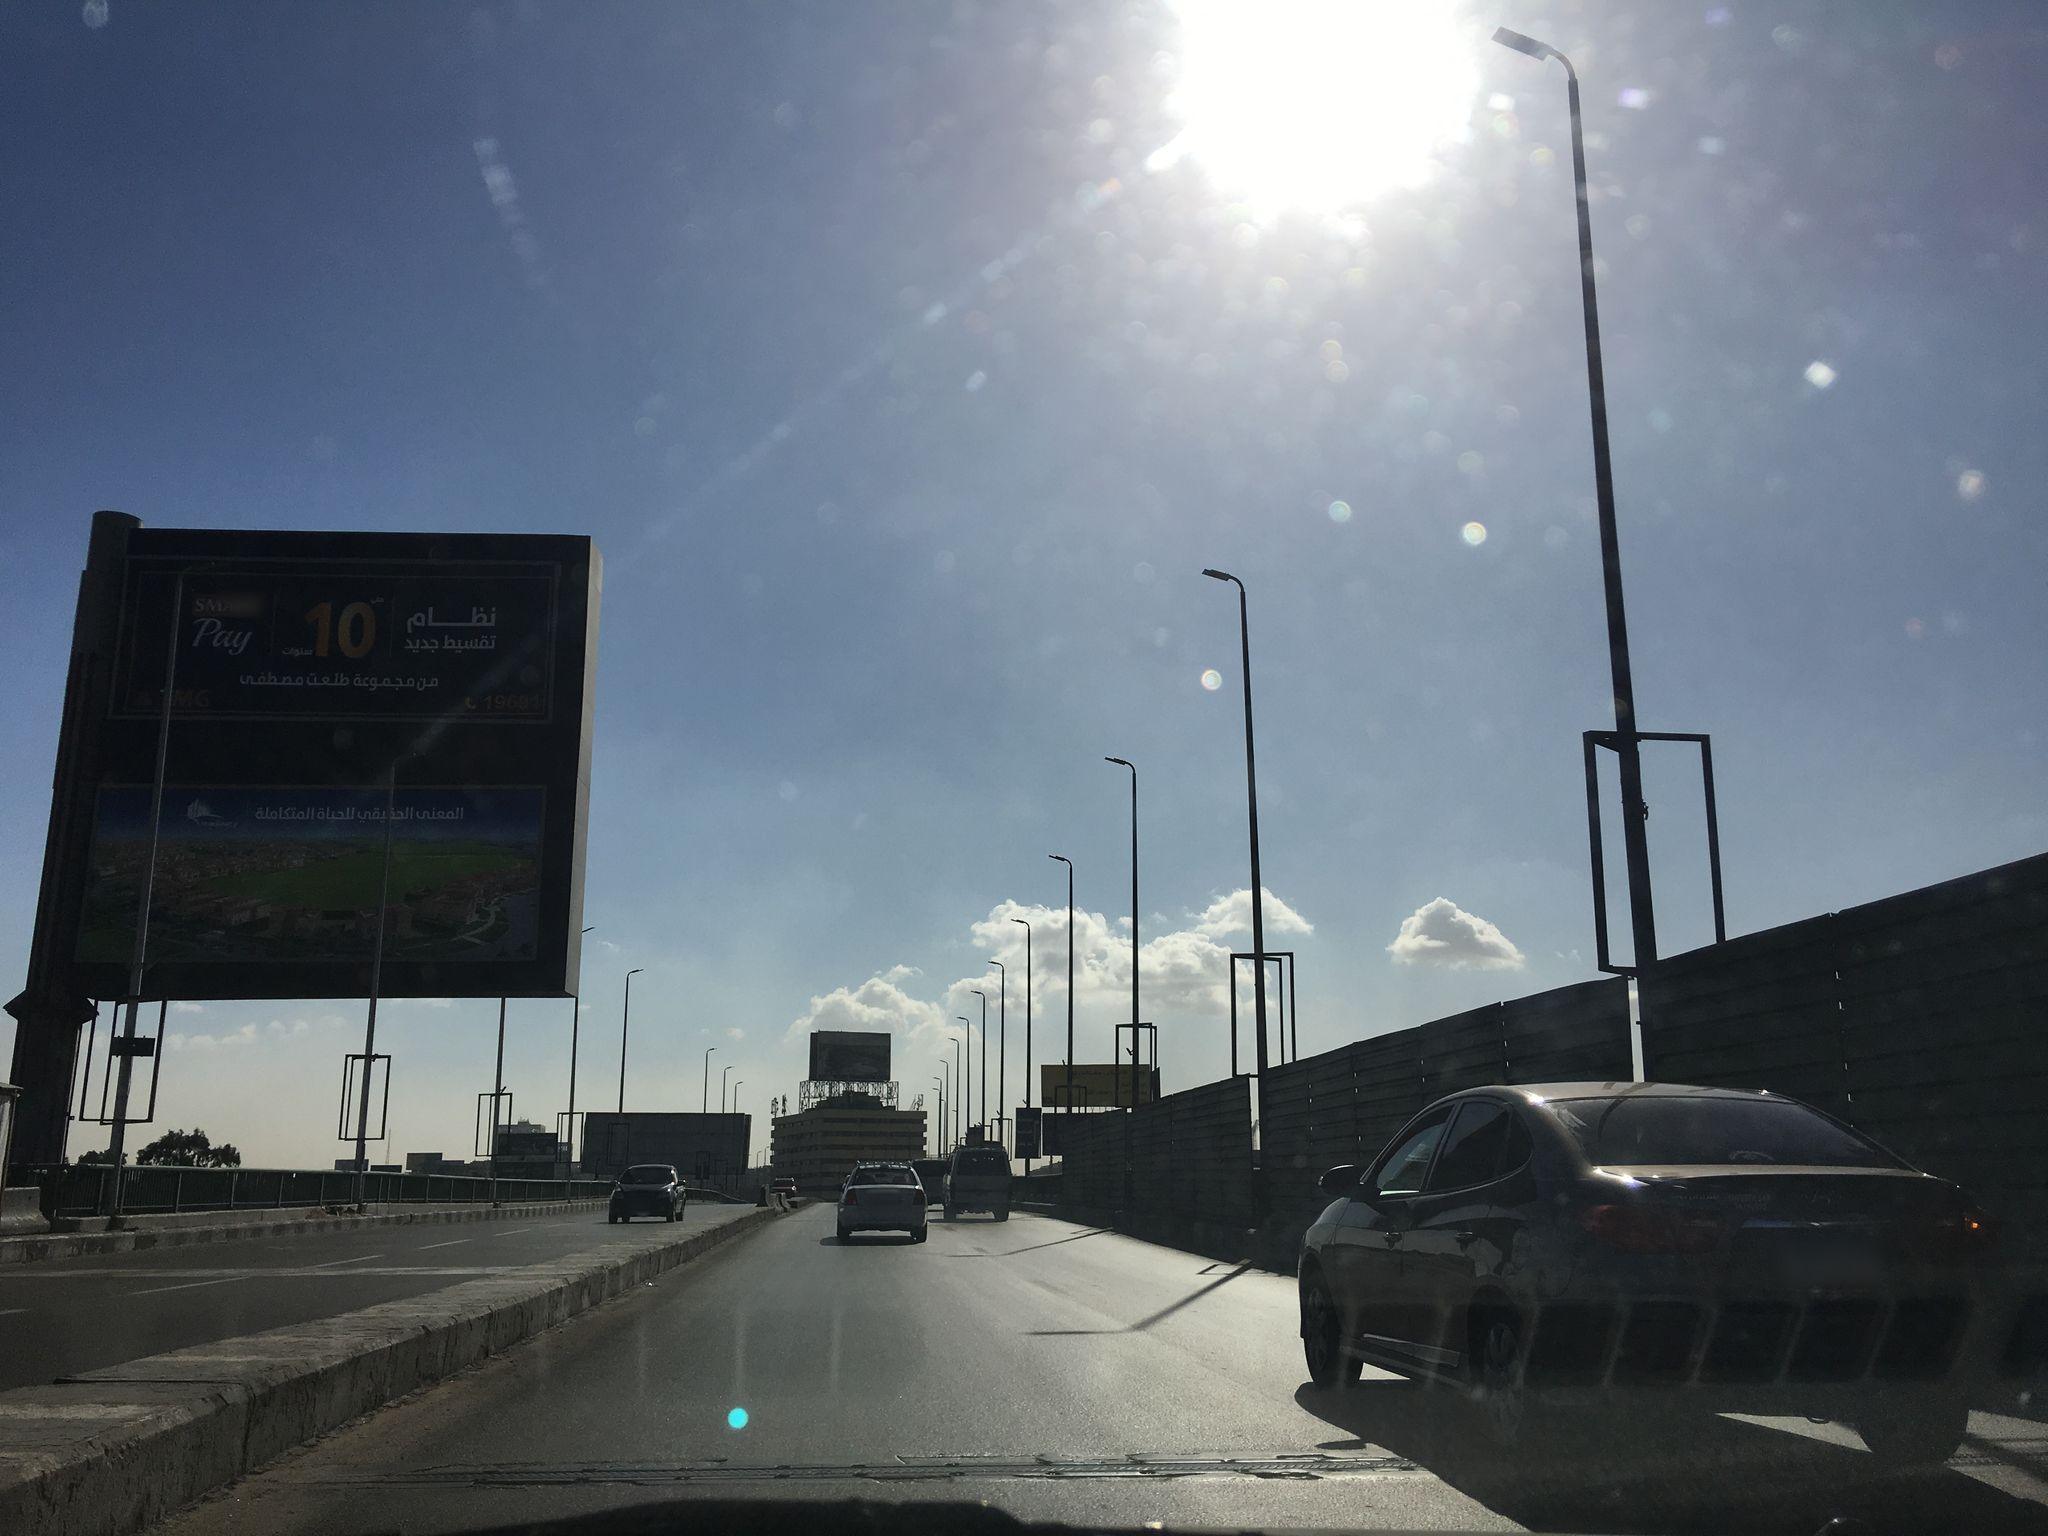car: (1293, 1079, 2008, 1467), (835, 1158, 927, 1242), (939, 1142, 1013, 1220), (606, 1163, 687, 1221), (911, 1157, 948, 1207), (769, 1176, 797, 1197)
